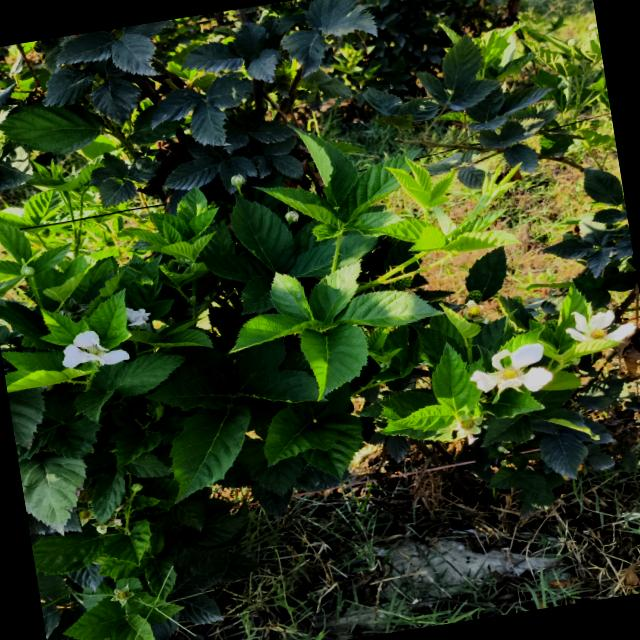boton: (231, 174, 246, 196), (285, 210, 299, 224)
flor: (471, 343, 554, 392), (63, 331, 129, 368), (566, 311, 636, 343), (126, 308, 151, 326)
